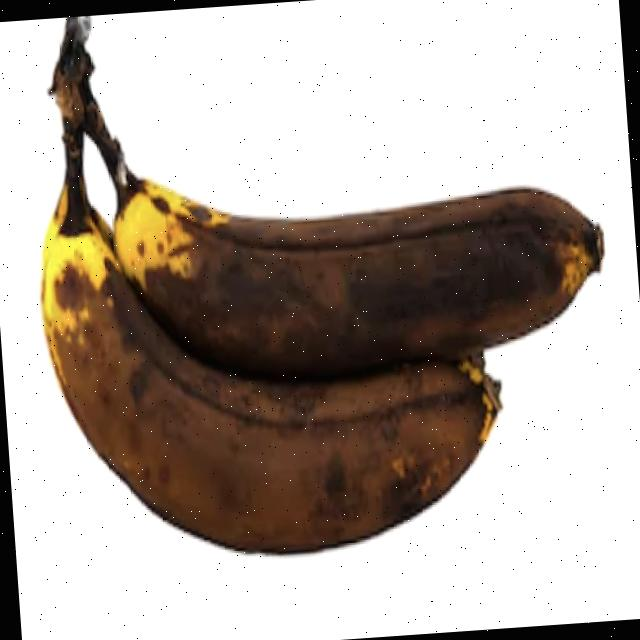rotten banana: (0, 63, 597, 640)
